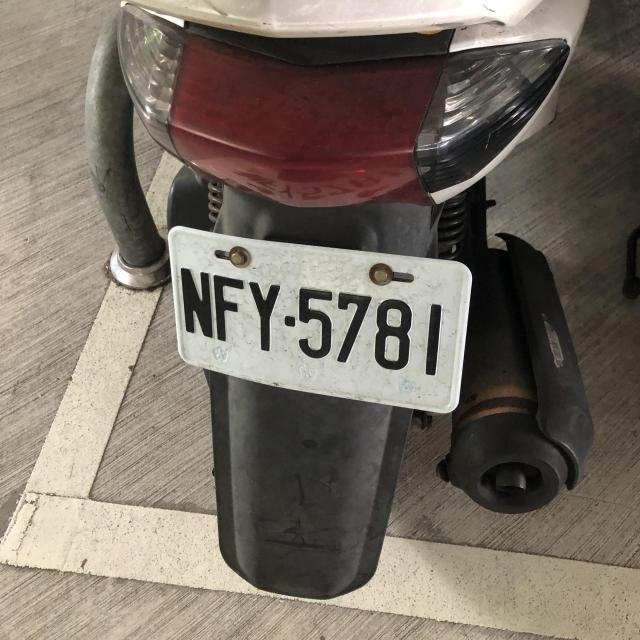W: (159, 230, 476, 410)
